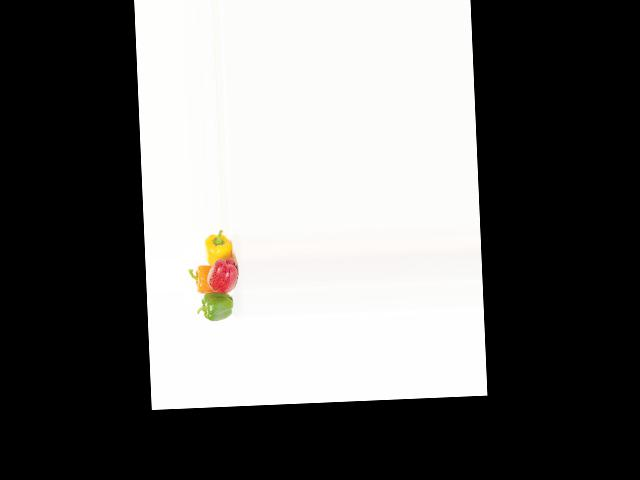bell_pepper: (198, 289, 238, 322)
